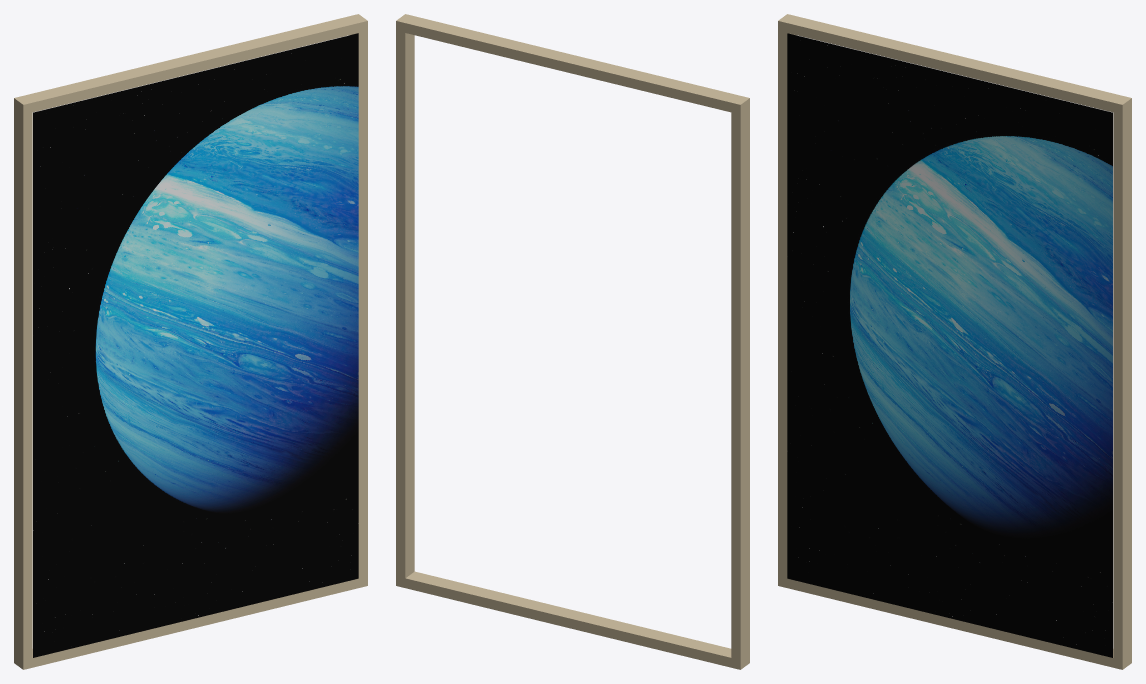
File: azure-giant_canvas_30-48.glb
The picture shows the model from 3 angles, left to right: view 1: azimuth 30°, elevation 25°; view 2: azimuth 150°, elevation 25°; view 3: azimuth 330°, elevation 25°; orthographic projection.
Visible parts, largest first — view 1: world; view 2: world; view 3: world.
Part boxes in pixels (bbox=[...]): world: bbox=[14, 14, 367, 669]; world: bbox=[396, 14, 749, 669]; world: bbox=[778, 14, 1131, 669].
Size of the model in its own units: 0.806 by 1.26 by 0.039.
1 material, 1 textured.
